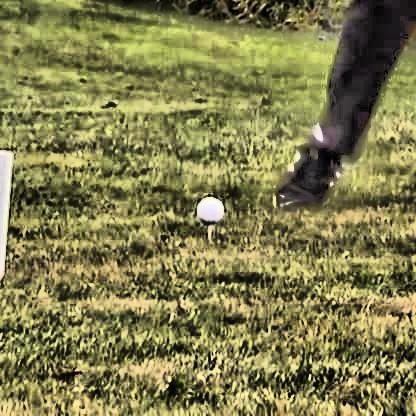golfball: (193, 194, 221, 222)
